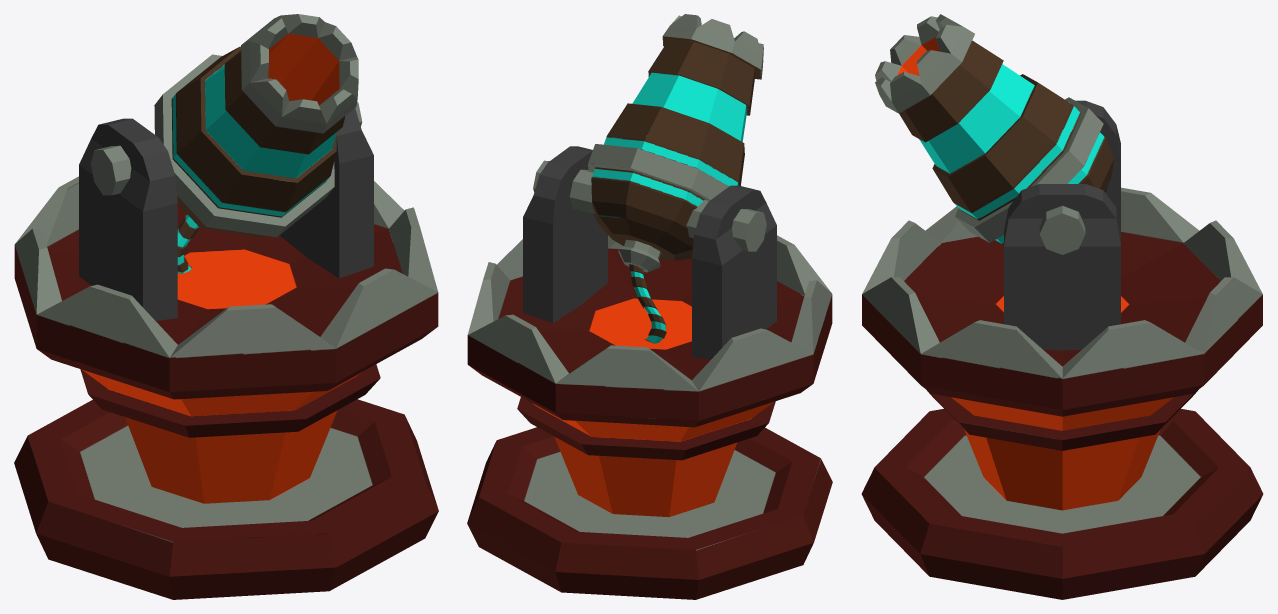
Rendered from Cañon de Plasma Final.fbx.
3 views of the same model, side by side, from view 1: azimuth 30°, elevation 25°; view 2: azimuth 150°, elevation 25°; view 3: azimuth 270°, elevation 25° (orthographic). The views are drawn at different scales.
Visible parts, largest first — view 1: Cañon de Plasma, Circle.001, Cube, Cylinder; view 2: Cañon de Plasma, Circle.001, Cube, Cylinder; view 3: Cañon de Plasma, Circle.001, Cube, Cylinder.
Boxes of the visible parts, box(x1,y1,x2,y2) form: Cañon de Plasma: box(14, 176, 438, 599); Circle.001: box(154, 14, 358, 273); Cube: box(79, 108, 373, 320); Cylinder: box(90, 101, 362, 195); Cañon de Plasma: box(467, 235, 832, 599); Circle.001: box(588, 14, 763, 343); Cube: box(523, 146, 776, 359); Cylinder: box(533, 160, 766, 251); Cañon de Plasma: box(861, 187, 1263, 599); Circle.001: box(875, 14, 1113, 245); Cube: box(1004, 100, 1120, 350); Cylinder: box(1039, 205, 1085, 254).
Size of the model in its own units: 214 by 293 by 214.
Materials: 4 (3 with a texture image).
